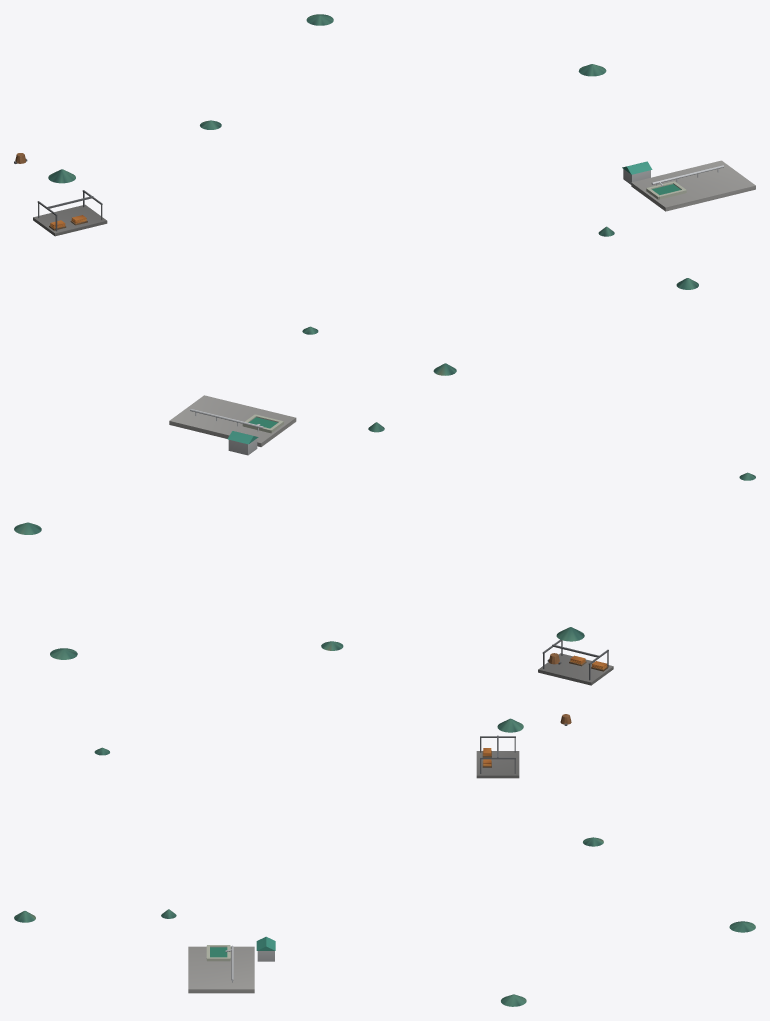
The model's file is Theme_P1.fbx.
3 views of the same model, one above another, from view 1: azimuth 30°, elevation 25°; view 2: azimuth 150°, elevation 25°; view 3: azimuth 270°, elevation 25° (orthographic). The views are drawn at different scales.
Parts seen in each view (by area): view 1: Theme.LeachPonds, Theme.CathodeYard; view 2: Theme.LeachPonds, Theme.CathodeYard, Theme.PumpHouse; view 3: Theme.LeachPonds, Theme.CathodeYard.
Boxes of the visible parts, box(x1,y1,x2,y2) form: Theme.LeachPonds: box(631, 160, 755, 211); Theme.CathodeYard: box(33, 190, 107, 236); Theme.LeachPonds: box(169, 395, 296, 446); Theme.CathodeYard: box(538, 639, 613, 685); Theme.PumpHouse: box(227, 431, 258, 455); Theme.LeachPonds: box(188, 945, 254, 993); Theme.CathodeYard: box(476, 735, 519, 778).
Size of the model in its own units: 23910 by 1921 by 27955.
